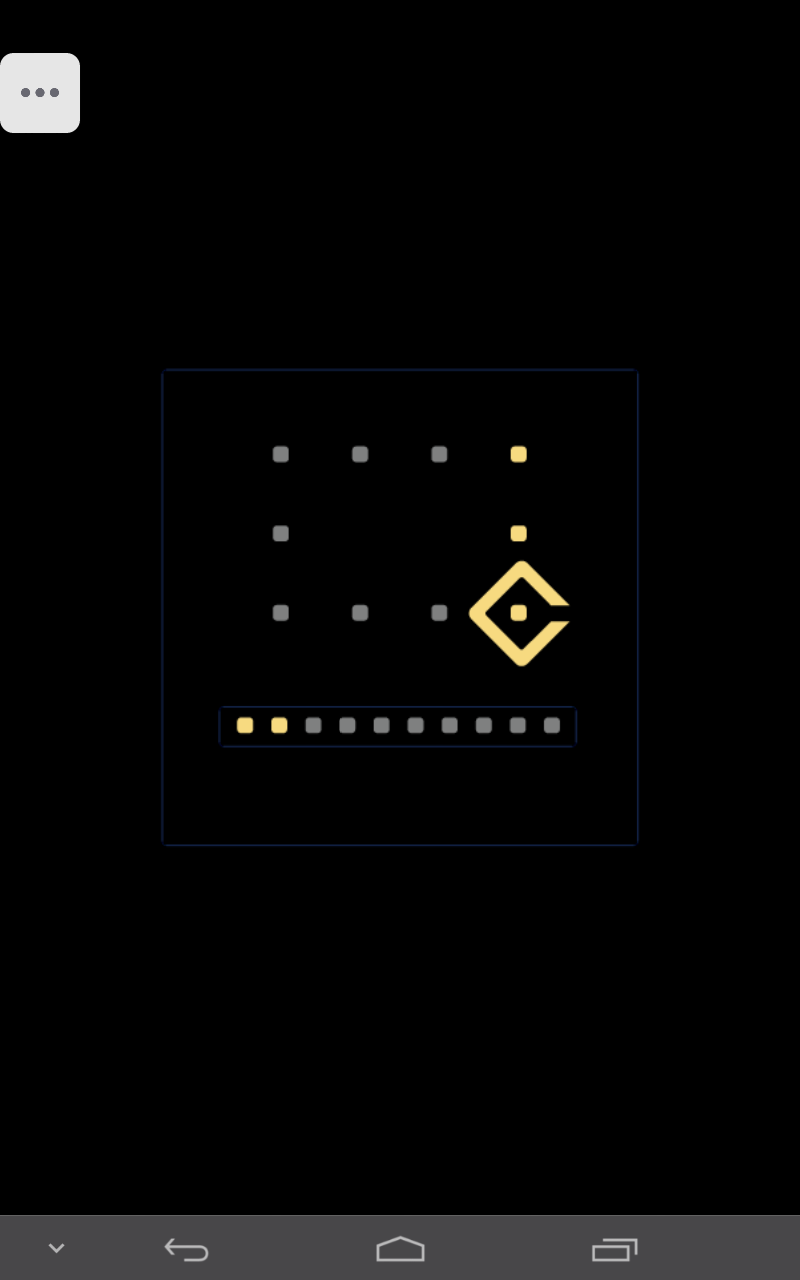imgview: (144, 358, 649, 840)
